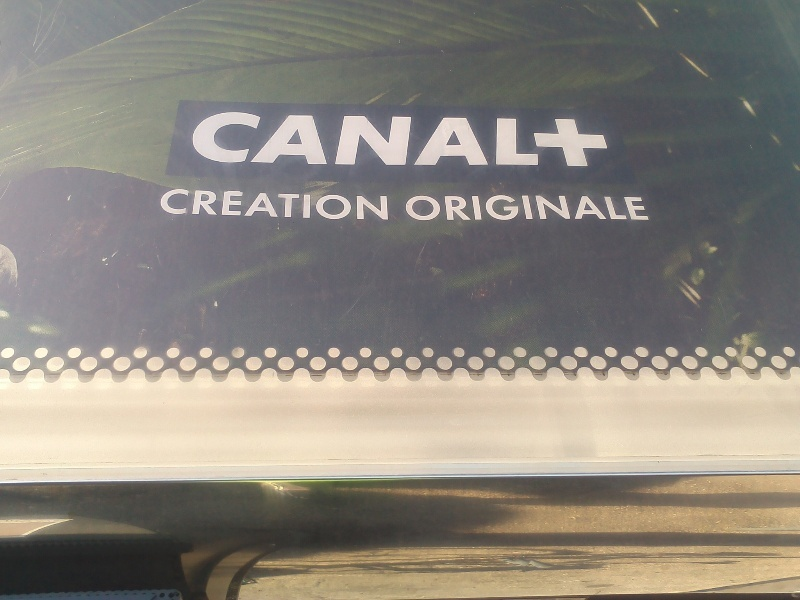text: (209, 108, 224, 168), (225, 108, 240, 168), (241, 108, 256, 168), (257, 108, 272, 168), (273, 108, 288, 168), (289, 108, 304, 168), (305, 108, 320, 168), (321, 108, 336, 168), (337, 108, 352, 168), (353, 108, 368, 168), (369, 108, 384, 168), (385, 108, 400, 168), (401, 108, 416, 168), (417, 108, 432, 168), (433, 108, 448, 168), (449, 108, 464, 168), (465, 108, 480, 168), (481, 108, 496, 168), (497, 108, 512, 168), (513, 108, 528, 168), (529, 108, 544, 168), (545, 108, 560, 168), (561, 108, 576, 168), (577, 108, 592, 168), (593, 108, 608, 168), (197, 108, 208, 168), (609, 108, 618, 168), (177, 189, 192, 222), (193, 189, 208, 222), (209, 189, 224, 222), (225, 189, 240, 222), (241, 189, 256, 222), (257, 189, 272, 222), (273, 189, 288, 222), (289, 189, 304, 222), (305, 189, 320, 222), (321, 189, 336, 222), (337, 189, 352, 222), (353, 189, 368, 222), (369, 189, 384, 222), (417, 195, 432, 222), (433, 195, 448, 222), (449, 195, 464, 222), (465, 195, 480, 222), (481, 195, 496, 222), (497, 195, 512, 222), (513, 195, 528, 222), (529, 195, 544, 222), (545, 195, 560, 222), (561, 195, 576, 222), (577, 195, 592, 222), (593, 195, 608, 222), (609, 195, 624, 222), (625, 195, 640, 222), (165, 189, 176, 222), (405, 195, 416, 222), (641, 195, 651, 222), (385, 189, 392, 222)
